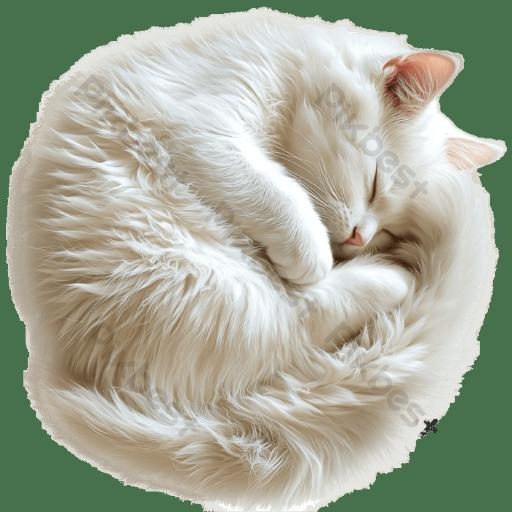cat_sleeping: (10, 12, 502, 509)
